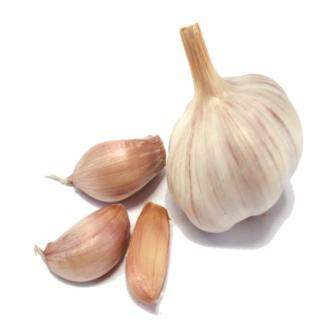Bawang Putih: (166, 74, 303, 234), (43, 205, 131, 283), (72, 135, 168, 202), (126, 202, 171, 307)
